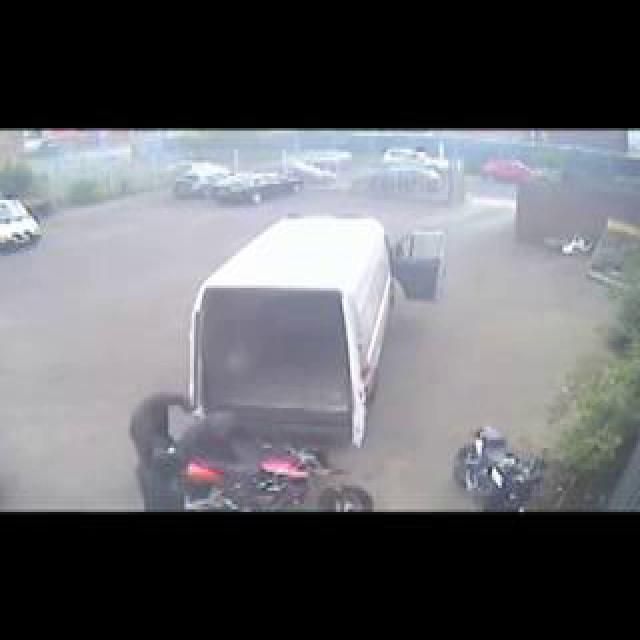stealing: (90, 364, 423, 513)
